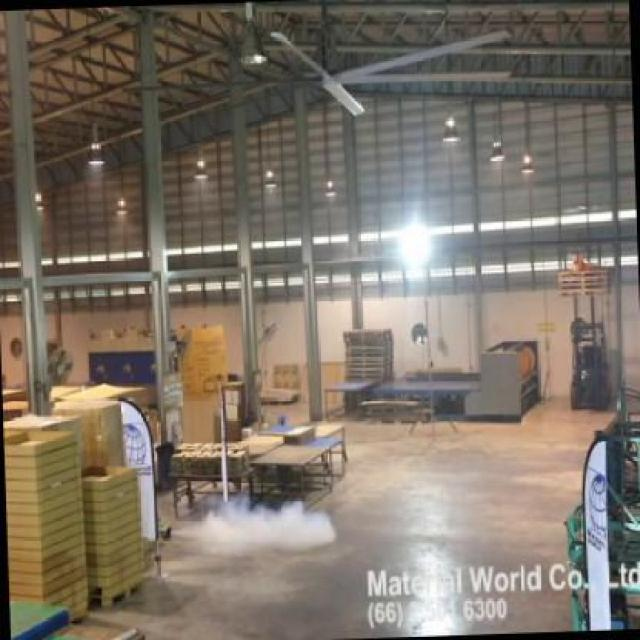fire: (185, 486, 341, 560)
